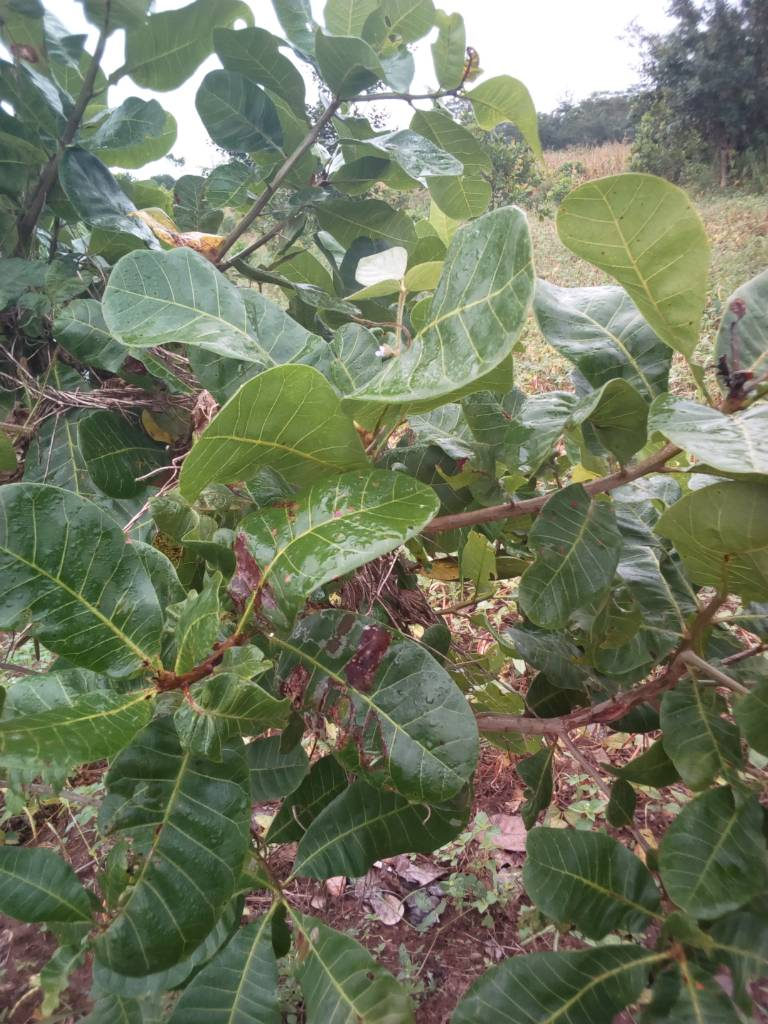Dysdercus wolkerii: (269, 605, 515, 799)
